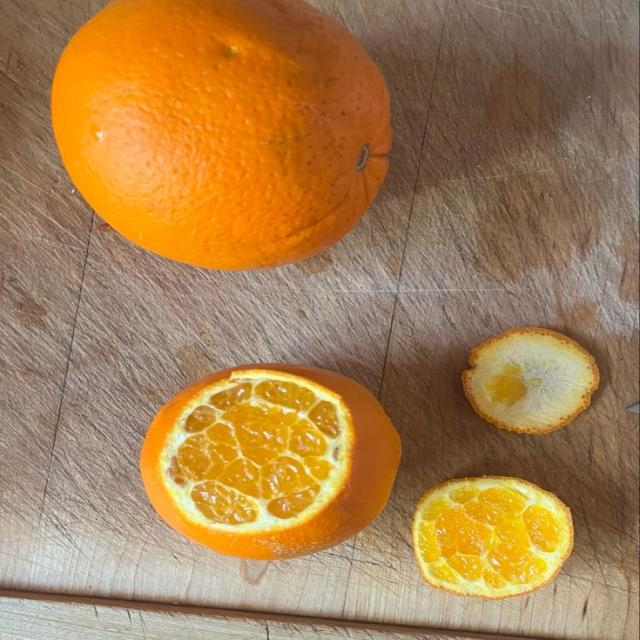orange: (52, 0, 390, 269), (142, 365, 400, 559), (413, 477, 572, 598), (463, 327, 599, 434)
